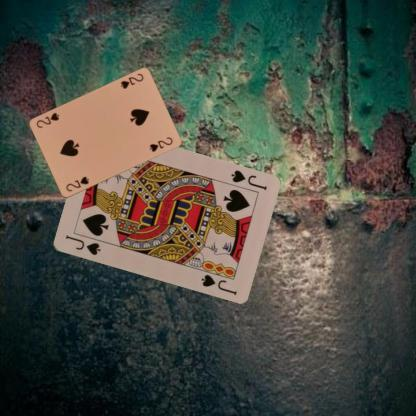2s: (64, 174, 90, 193), (118, 71, 144, 90)
Js: (62, 232, 102, 257), (228, 167, 268, 192)
